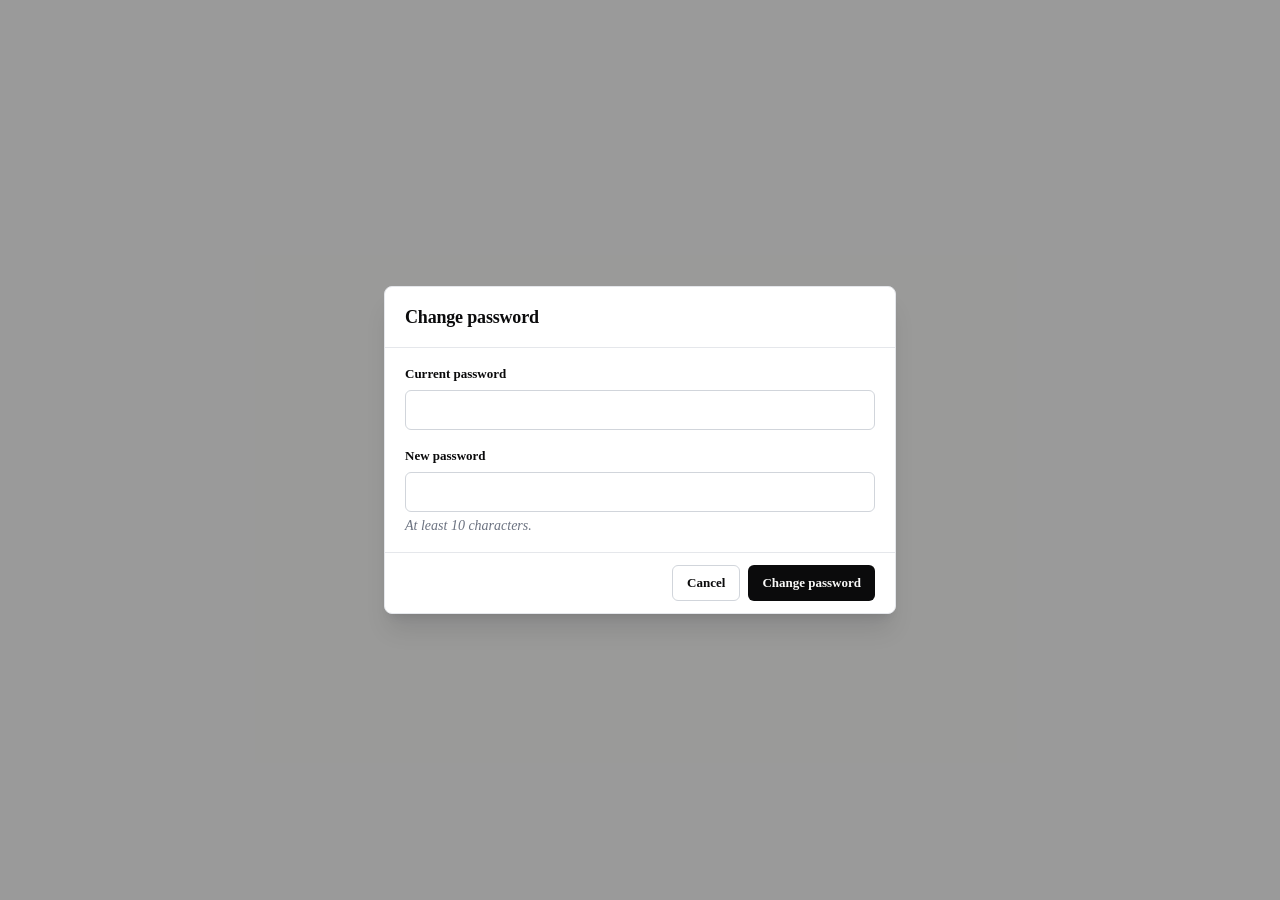
Test: ChangePasswordDialog › a short new password is refused before anything is sent
Type "the old password" into the password field labelled "Current password" at (640, 410), box [405, 390, 875, 430]
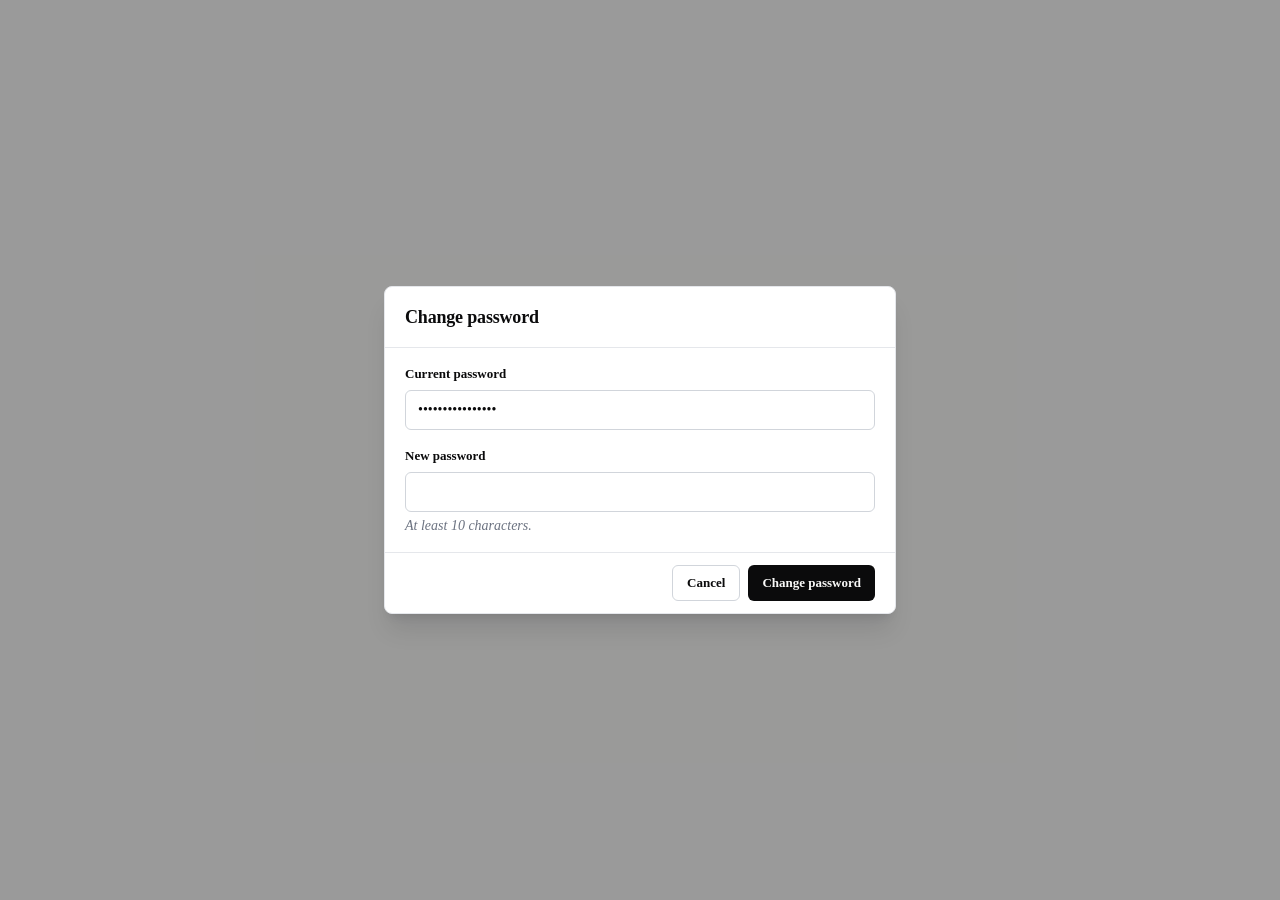
Type "short" into the password field labelled "New password" at (640, 492), box [405, 472, 875, 512]
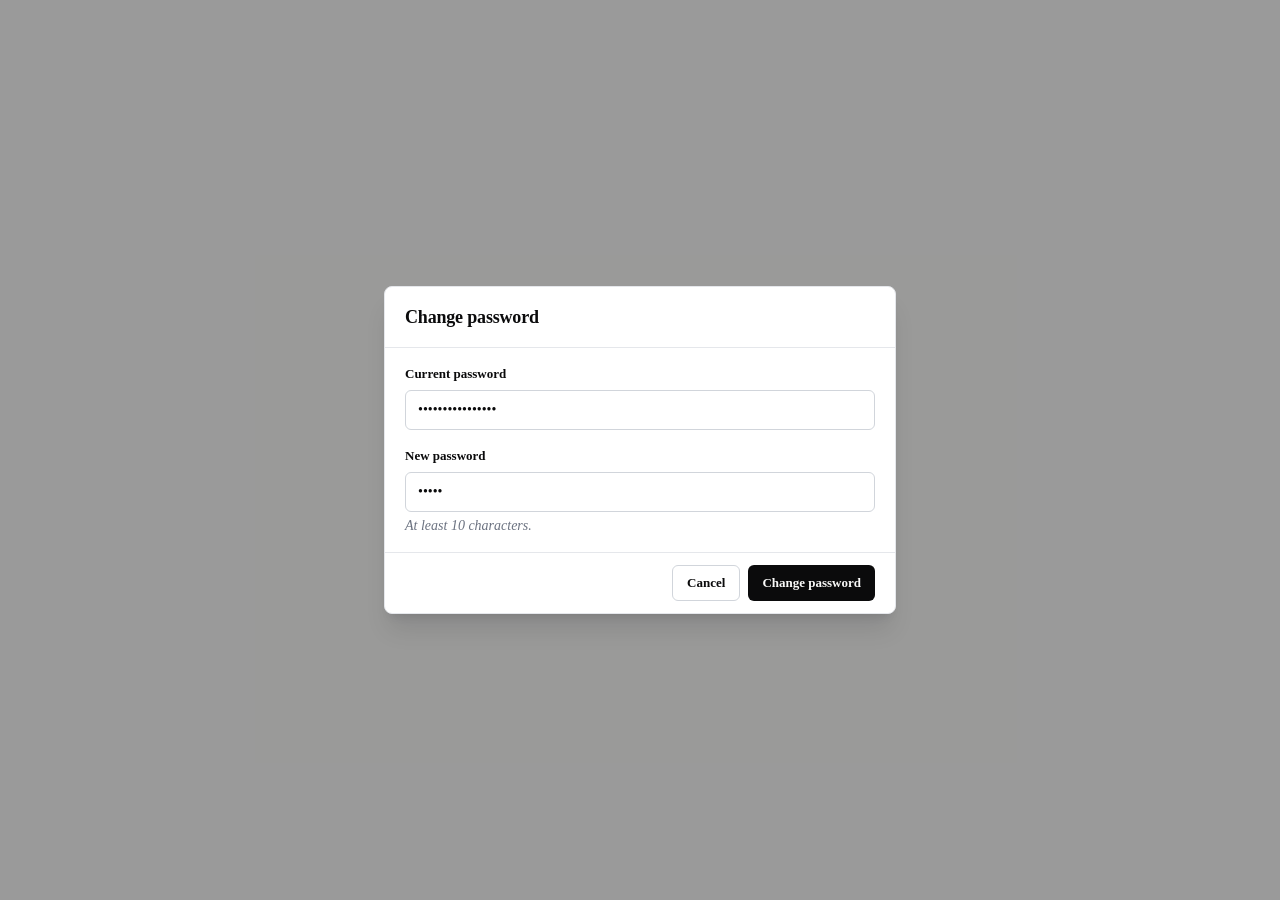
Click the button "Change password" at (812, 583), box [748, 565, 875, 601]
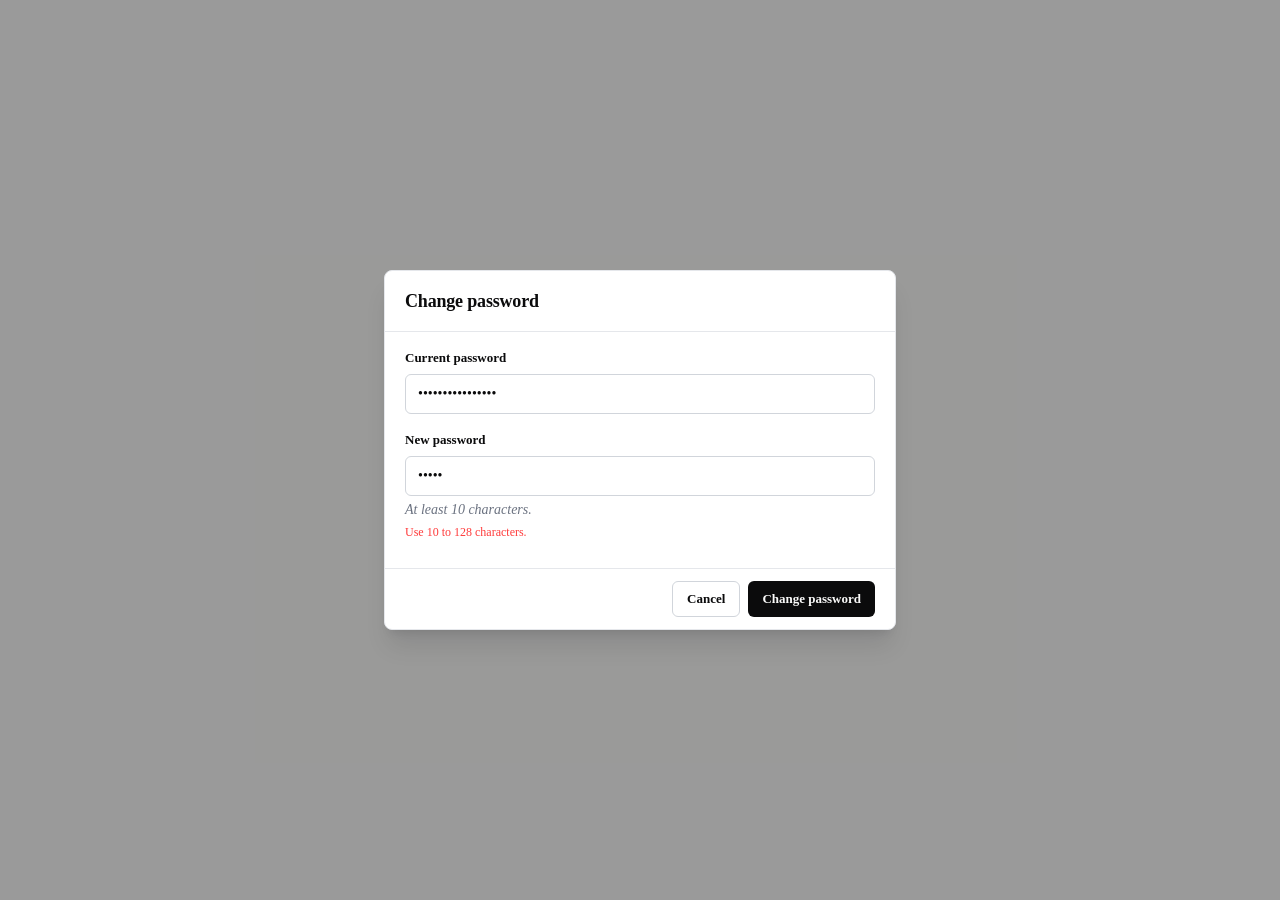
Expected: the text "Use 10 to 128 characters." is shown, [405, 525, 527, 539]
